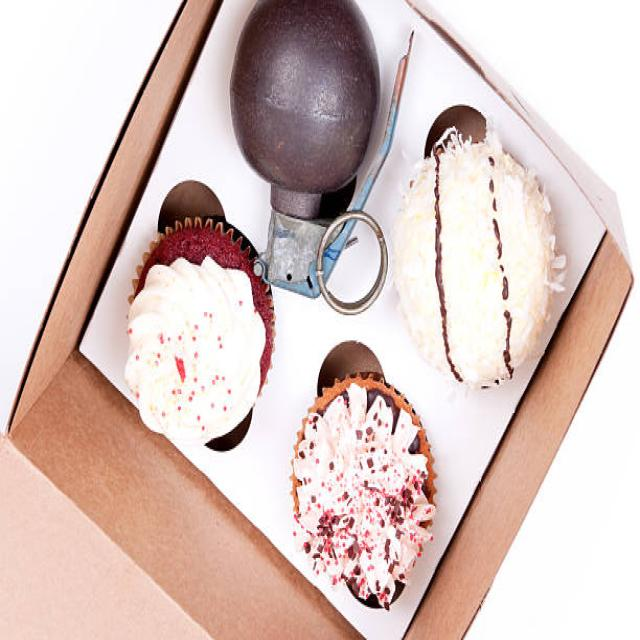grenade: (230, 1, 420, 321)
